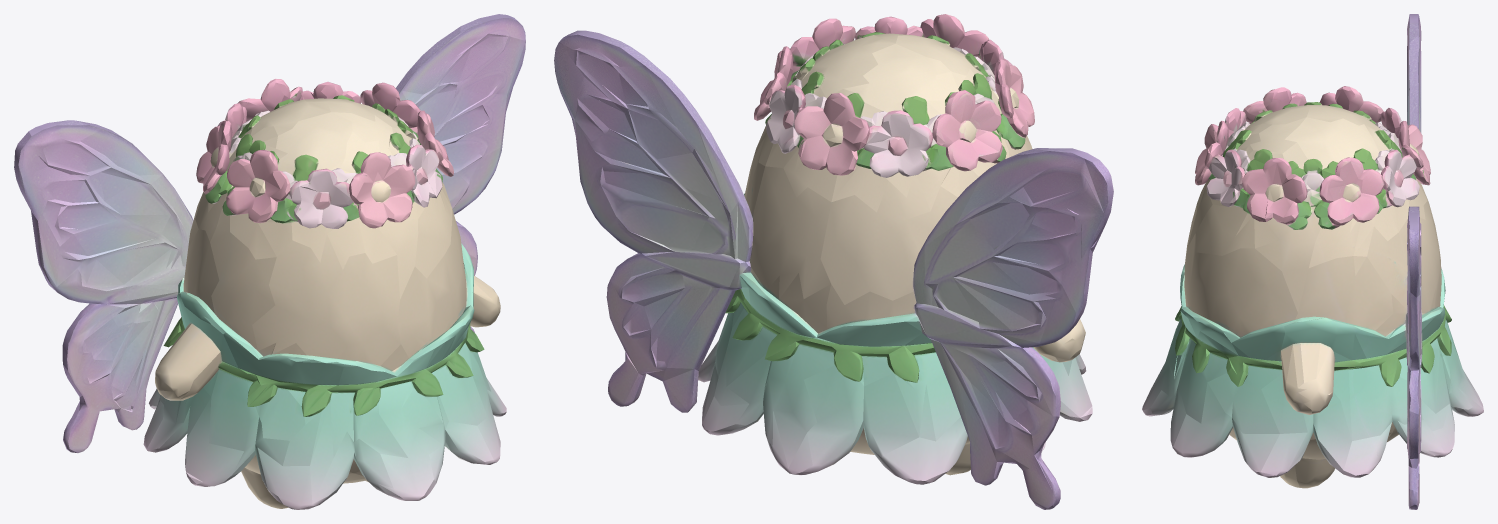
Rendered from fairy.glb.
3 renders of one model, left to right at view 1: azimuth 30°, elevation 25°; view 2: azimuth 150°, elevation 25°; view 3: azimuth 270°, elevation 25°, orthographic. The views are drawn at different scales.
Size of the model in its own units: 1.9 by 1.36 by 1.21.
1 material, 1 textured.
